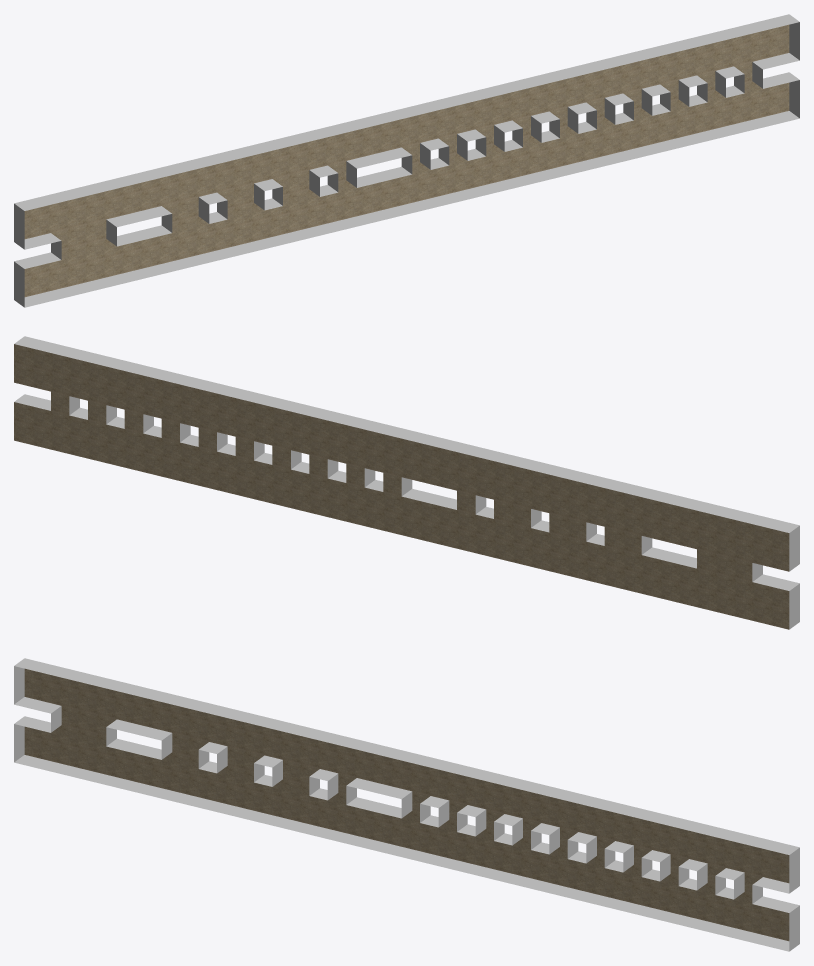
The model's file is corrida.obj.
3 renders of one model, top to bottom at view 1: azimuth 30°, elevation 25°; view 2: azimuth 150°, elevation 25°; view 3: azimuth 330°, elevation 25°, orthographic.
Size of the model in its own units: 42 by 5 by 1.
